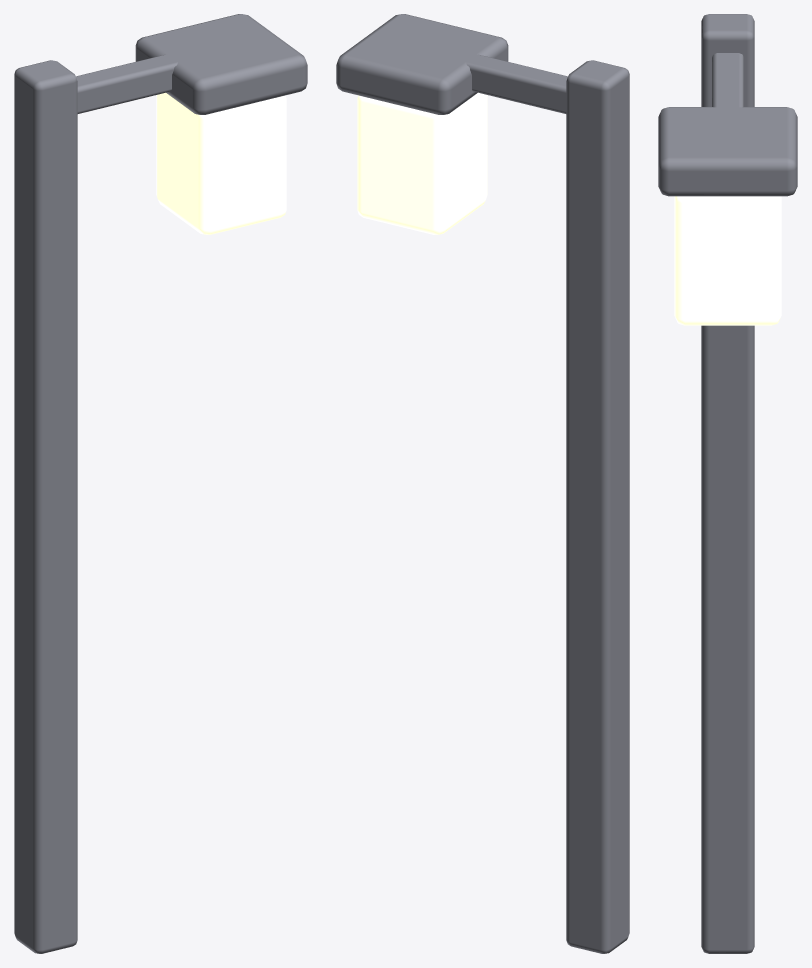
File: lantern_post.glb
The picture shows the model from 3 angles, left to right: view 1: azimuth 30°, elevation 25°; view 2: azimuth 150°, elevation 25°; view 3: azimuth 270°, elevation 25°; orthographic projection. The views are drawn at different scales.
Visible parts, largest first — view 1: post, lantern, lantern_top, arm; view 2: post, lantern, lantern_top, arm; view 3: post, lantern, lantern_top, arm.
Part boxes in pixels (x1,y1,x2,y2): post: [14, 60, 77, 953]; lantern: [156, 92, 286, 234]; lantern_top: [135, 14, 307, 114]; arm: [76, 43, 221, 113]; post: [566, 60, 629, 953]; lantern: [357, 92, 487, 234]; lantern_top: [336, 14, 508, 114]; arm: [422, 43, 567, 113]; post: [701, 14, 754, 953]; lantern: [674, 196, 781, 325]; lantern_top: [658, 107, 797, 196]; arm: [712, 53, 743, 129].
Size of the model in its own units: 0.58 by 1.9 by 0.26.
